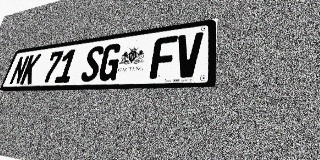1: (54, 49, 78, 83)
7: (41, 51, 64, 84)
F: (149, 35, 178, 79)
G: (97, 43, 123, 81)
K: (19, 54, 42, 85)
N: (8, 55, 30, 85)
S: (80, 45, 105, 82)
V: (174, 32, 203, 78)
